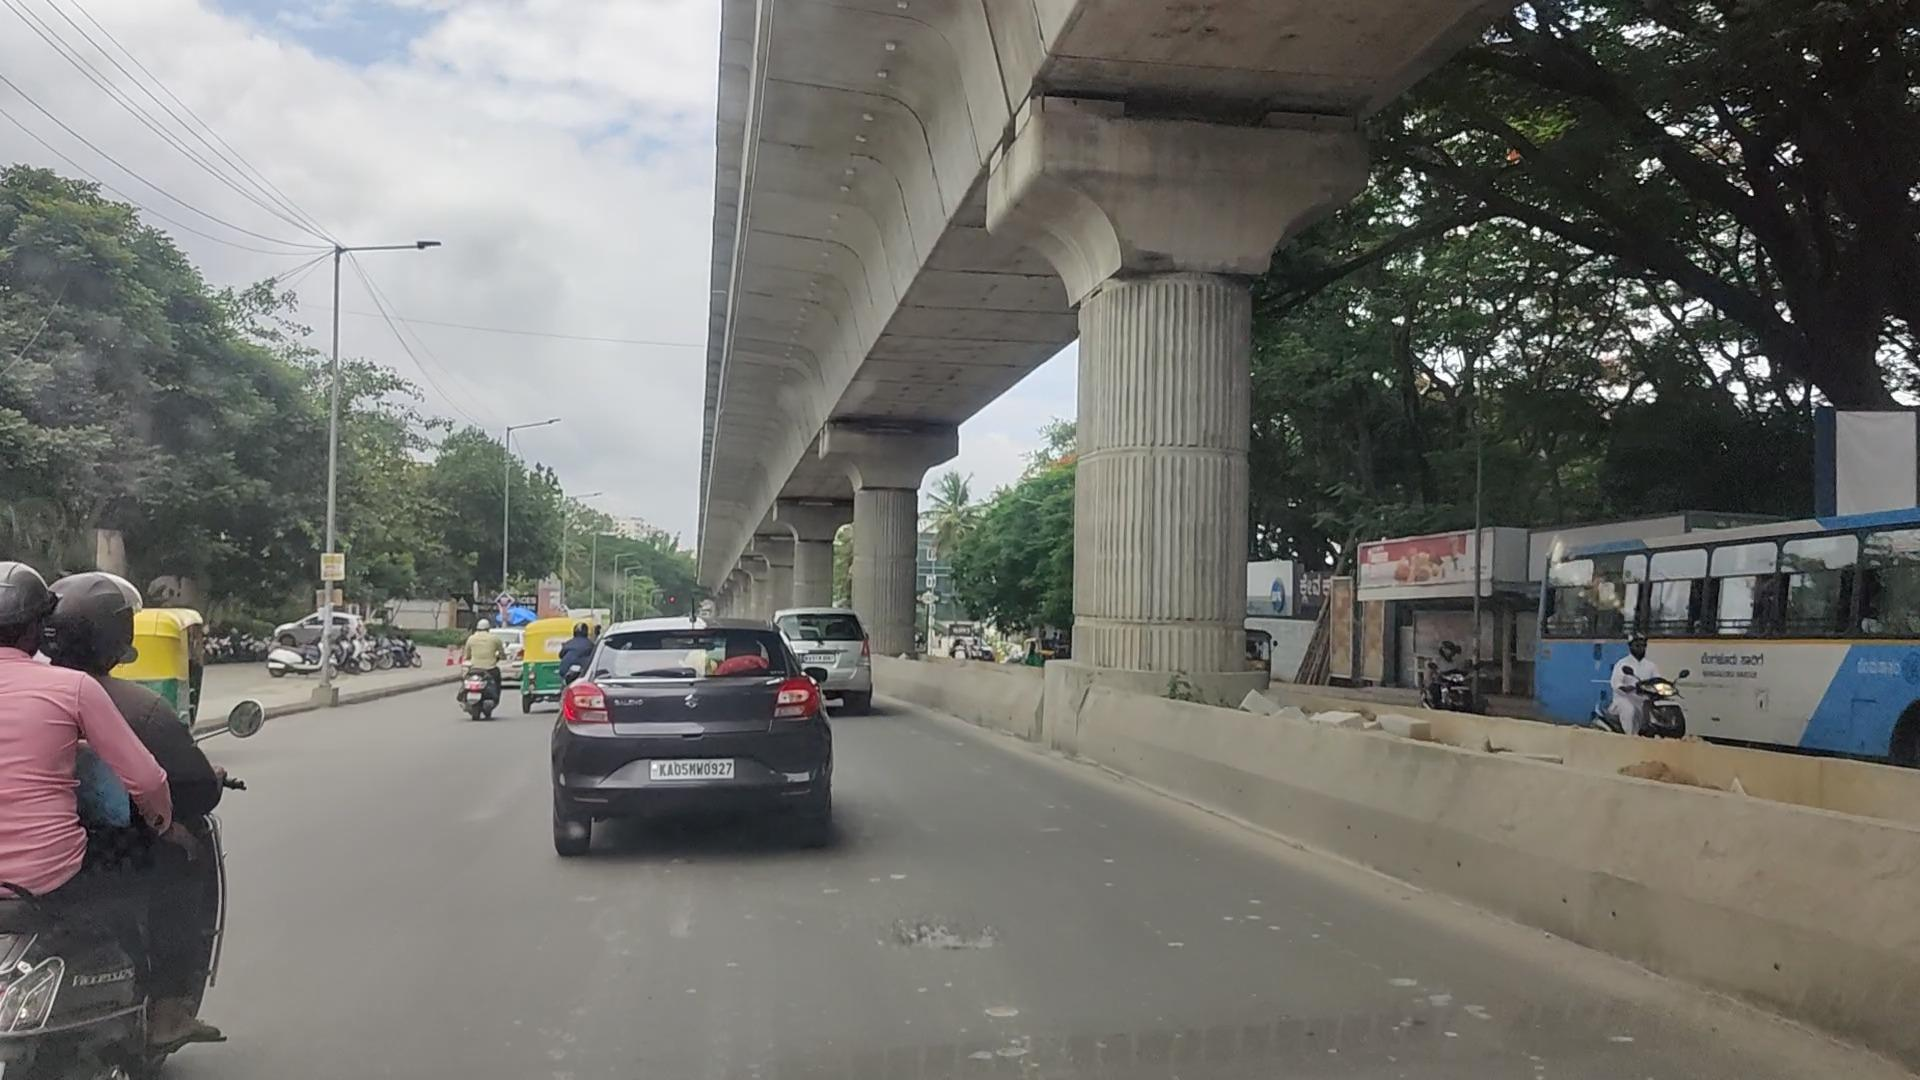LMV: (551, 617, 828, 857), (460, 613, 505, 717)
RoadDamages: (886, 913, 993, 961)
